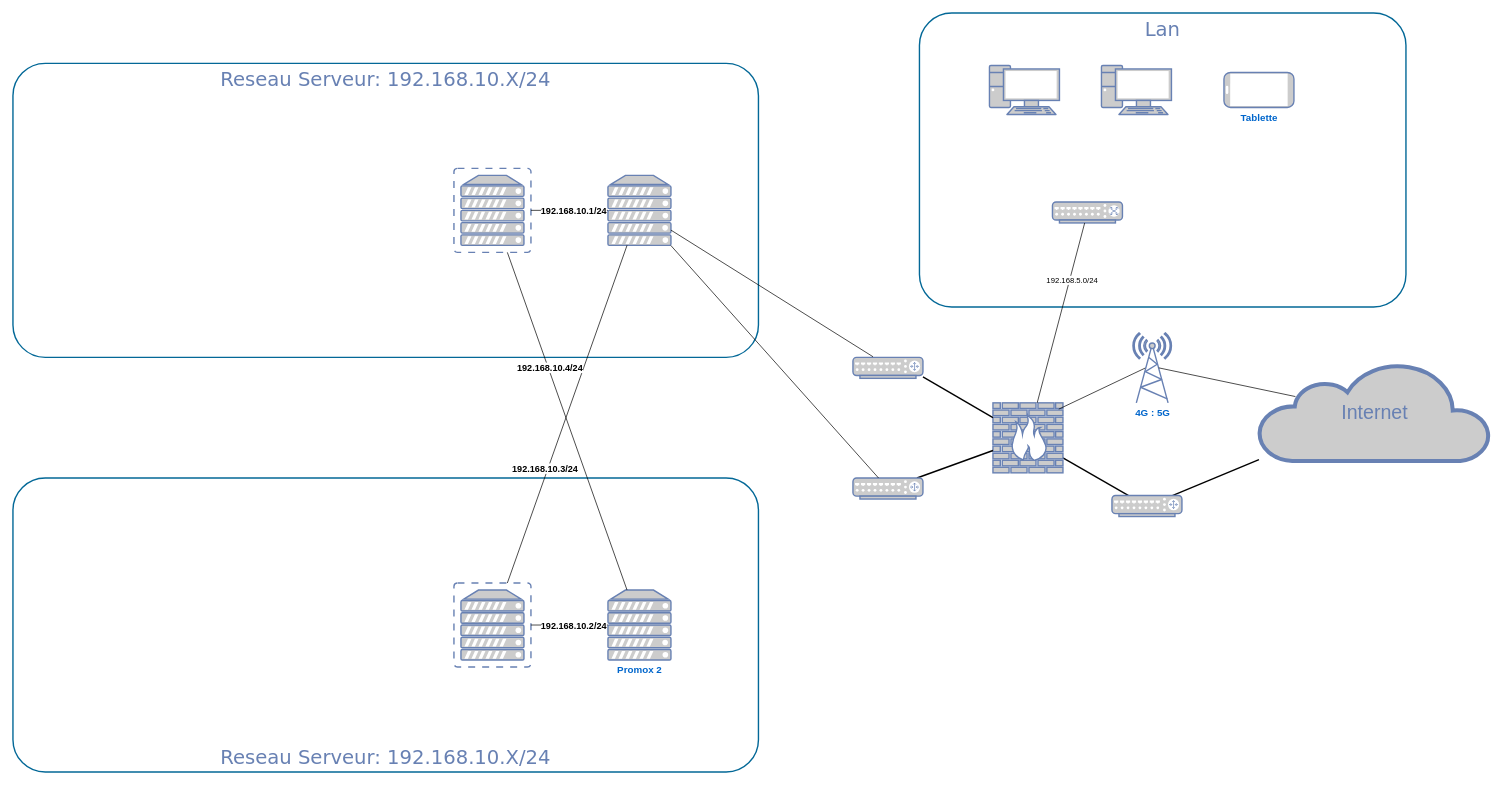
Some shapes in this 1502 by 785 pixel diagram are drawn without their labels. The centre of each missing label's shape, as x and y in pixels:
"Box Internet" belongs at point (1146, 505).
"Promox 1" belongs at point (639, 210).
"Serveur Fichier / VM 1" belongs at point (492, 210).
"Serveur Fichier / VM 2" belongs at point (492, 624).
